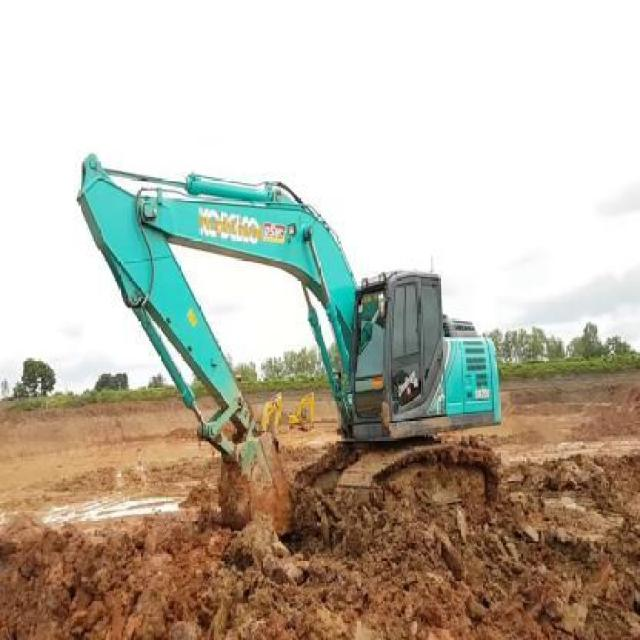excavator: (76, 152, 502, 598)
